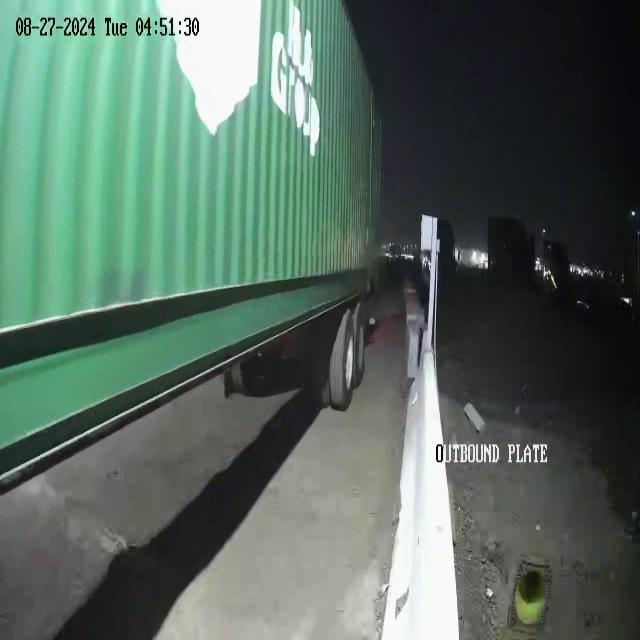CONTAINER: (1, 1, 384, 487)
